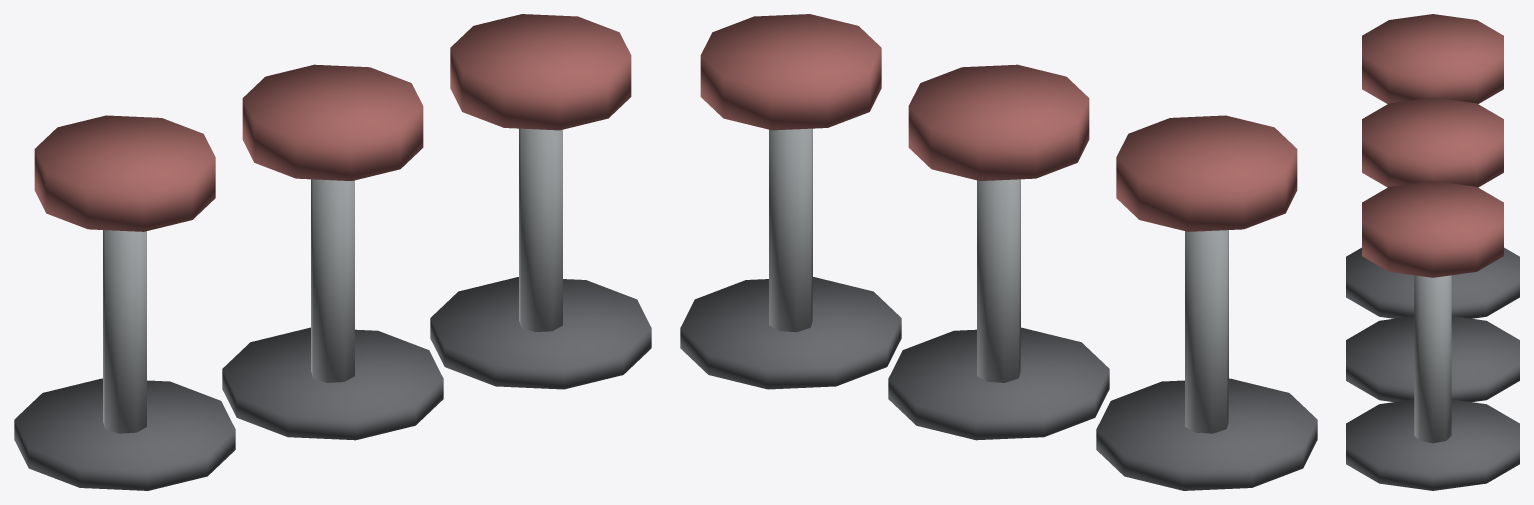
Rendered from diner_counter_stool_module__cluster.glb.
The picture shows the model from 3 angles, left to right: view 1: azimuth 30°, elevation 25°; view 2: azimuth 150°, elevation 25°; view 3: azimuth 270°, elevation 25°; orthographic projection. The views are drawn at different scales.
Visible parts, largest first — view 1: world; view 2: world; view 3: world.
Part boxes in pixels (x1=…): world: x1=14, y1=14, x2=651, y2=490; world: x1=680, y1=14, x2=1317, y2=490; world: x1=1346, y1=14, x2=1519, y2=490.
Bounding box in the file's own units: 1.39 × 0.665 × 0.4185.
